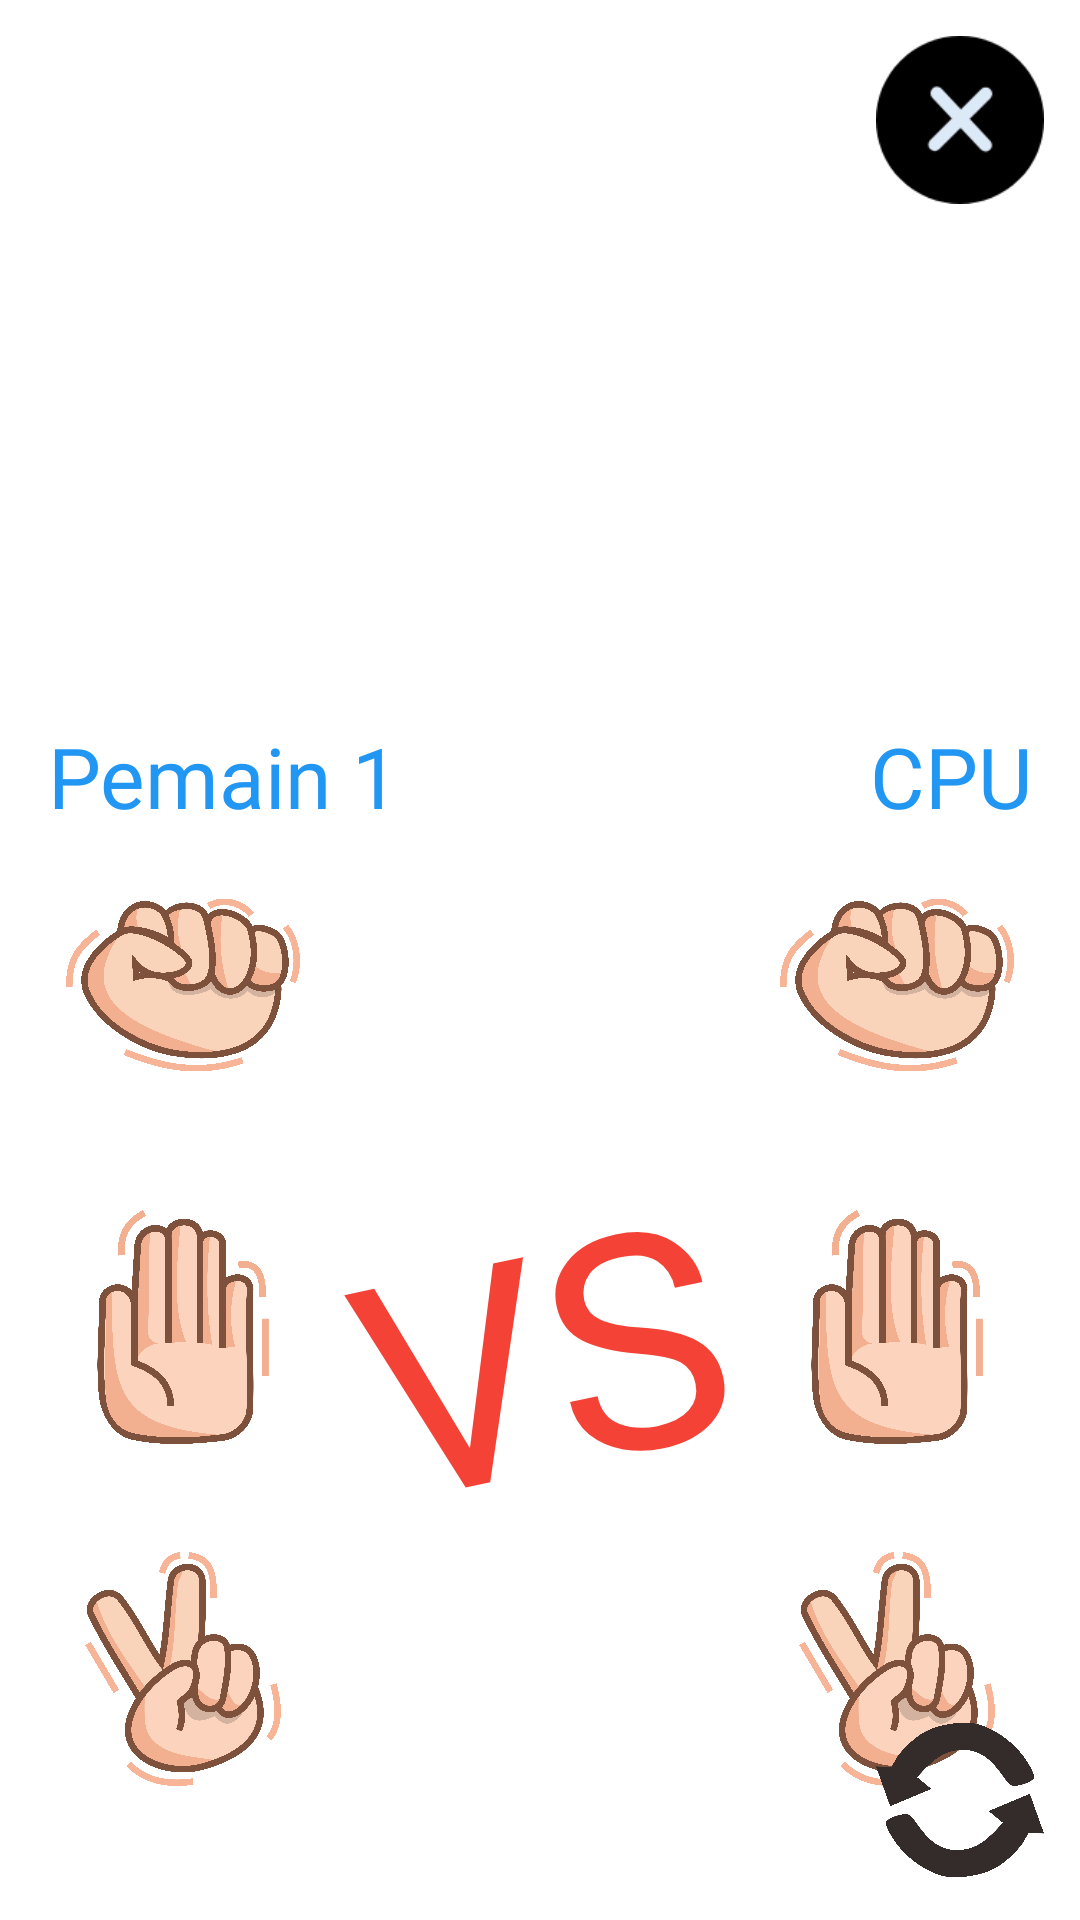

Icons on this 1080px x 1920px Android screen, each with its box as (x1, y1, x2, y2):
back: (876, 36, 1044, 204)
Batu: (66, 899, 300, 1071), (780, 899, 1014, 1071)
Kertas: (97, 1210, 269, 1444), (811, 1210, 983, 1444)
